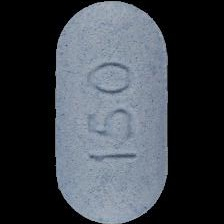0781-5187: (0, 0, 224, 224)
